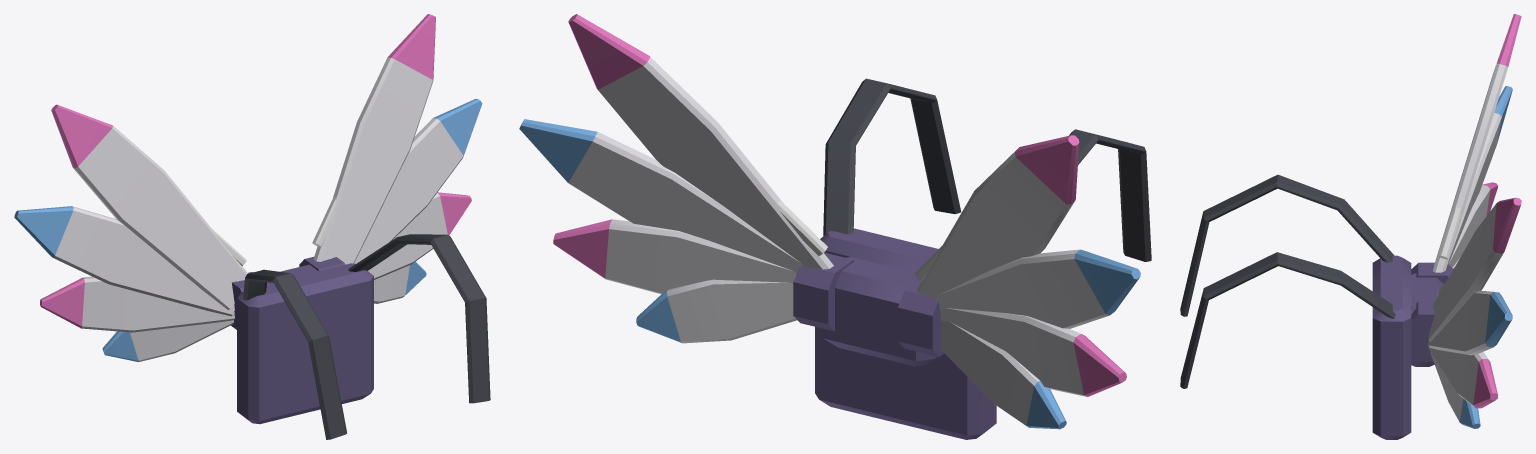
File: gear_ailes.glb
3 renders of one model, left to right at view 1: azimuth 30°, elevation 25°; view 2: azimuth 150°, elevation 25°; view 3: azimuth 270°, elevation 25°, orthographic. The views are drawn at different scales.
Parts seen in each view (by area): view 1: torso__ailes, torso__ailes_glow; view 2: torso__ailes, torso__ailes_glow; view 3: torso__ailes, torso__ailes_glow.
Boxes of the visible parts, left/top/right/bottom form: torso__ailes: left=14, top=14, right=490, bottom=439; torso__ailes_glow: left=212, top=196, right=336, bottom=265; torso__ailes: left=519, top=14, right=1151, bottom=439; torso__ailes_glow: left=778, top=200, right=942, bottom=281; torso__ailes: left=1180, top=14, right=1521, bottom=439; torso__ailes_glow: left=1438, top=207, right=1461, bottom=294.
Size of the model in its own units: 0.5344 by 0.3319 by 0.3349.
